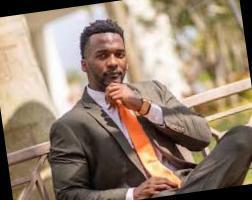Sober: (92, 33, 125, 84)
